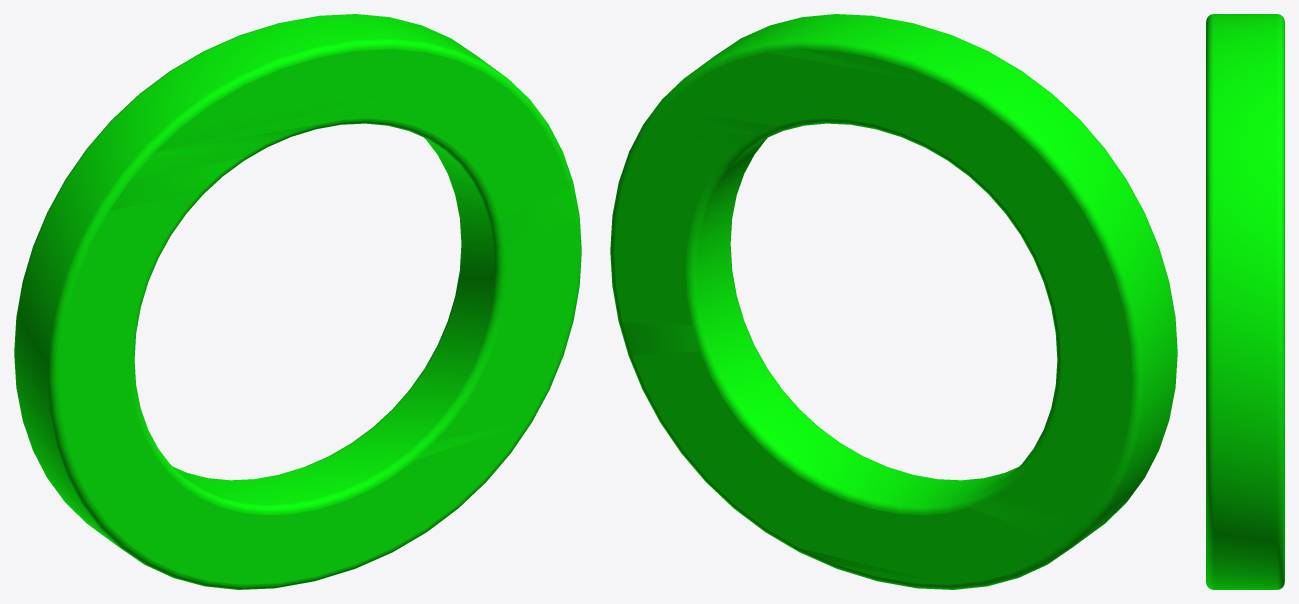
3 views of the same model, side by side, from view 1: azimuth 30°, elevation 25°; view 2: azimuth 150°, elevation 25°; view 3: azimuth 270°, elevation 25° (orthographic). The views are drawn at different scales.
Visible parts, largest first — view 1: OO; view 2: OO; view 3: OO.
Boxes of the visible parts, left/top/right/bottom form: OO: left=14, top=14, right=581, bottom=589; OO: left=610, top=14, right=1177, bottom=589; OO: left=1206, top=14, right=1284, bottom=589.
Size of the model in its own units: 0.5229 by 0.5 by 0.0696.
